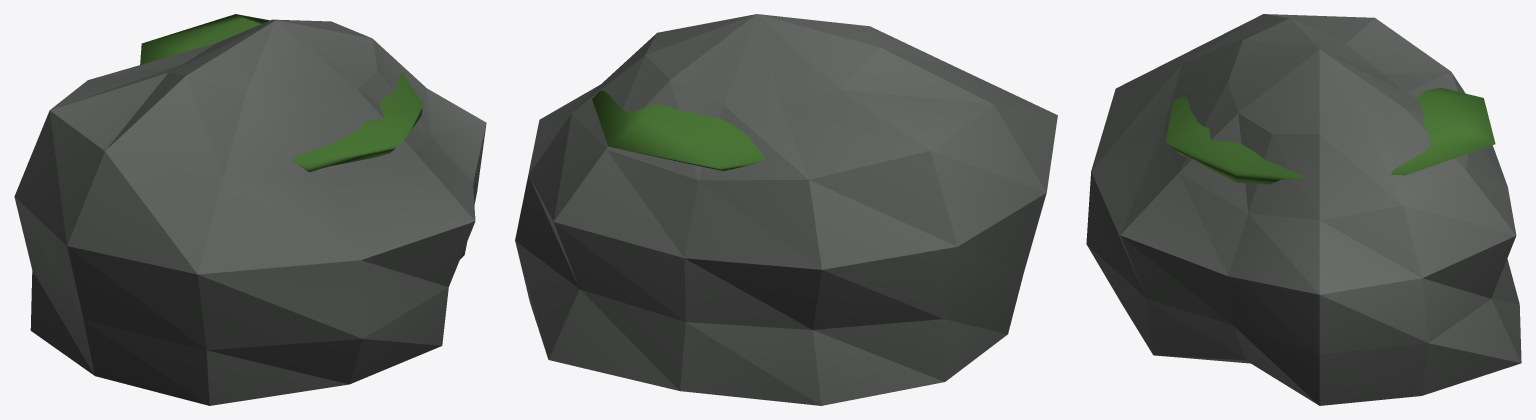
Rendered from rocha_musgo.glb.
3 renders of one model, left to right at view 1: azimuth 30°, elevation 25°; view 2: azimuth 150°, elevation 25°; view 3: azimuth 270°, elevation 25°, orthographic. The views are drawn at different scales.
Parts seen in each view (by area): view 1: Prop; view 2: Prop; view 3: Prop.
Boxes of the visible parts, x1=… form: Prop: x1=14, y1=14, x2=486, y2=405; Prop: x1=515, y1=14, x2=1057, y2=405; Prop: x1=1086, y1=14, x2=1521, y2=405.
Bounding box in the file's own units: 3.03 × 1.79 × 2.63.
